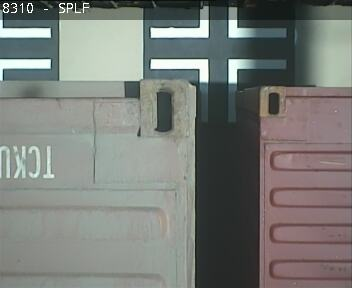groundmarker_1: (148, 57, 287, 122), (149, 5, 287, 39)
